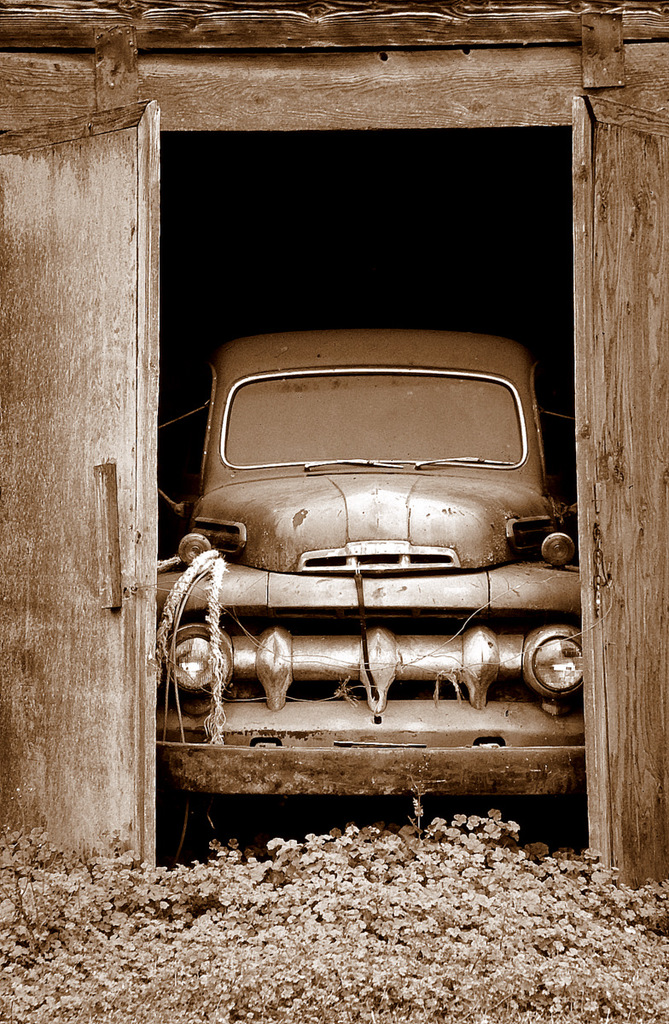Car: (162, 320, 580, 857)
